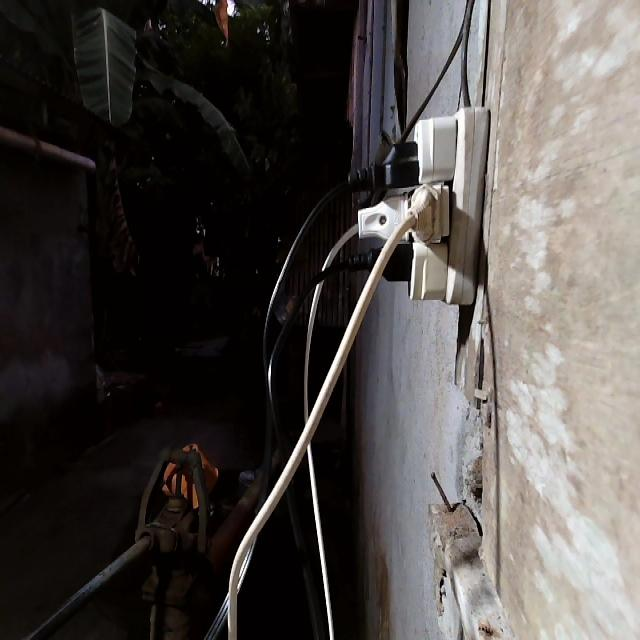-: (339, 106, 493, 306)
